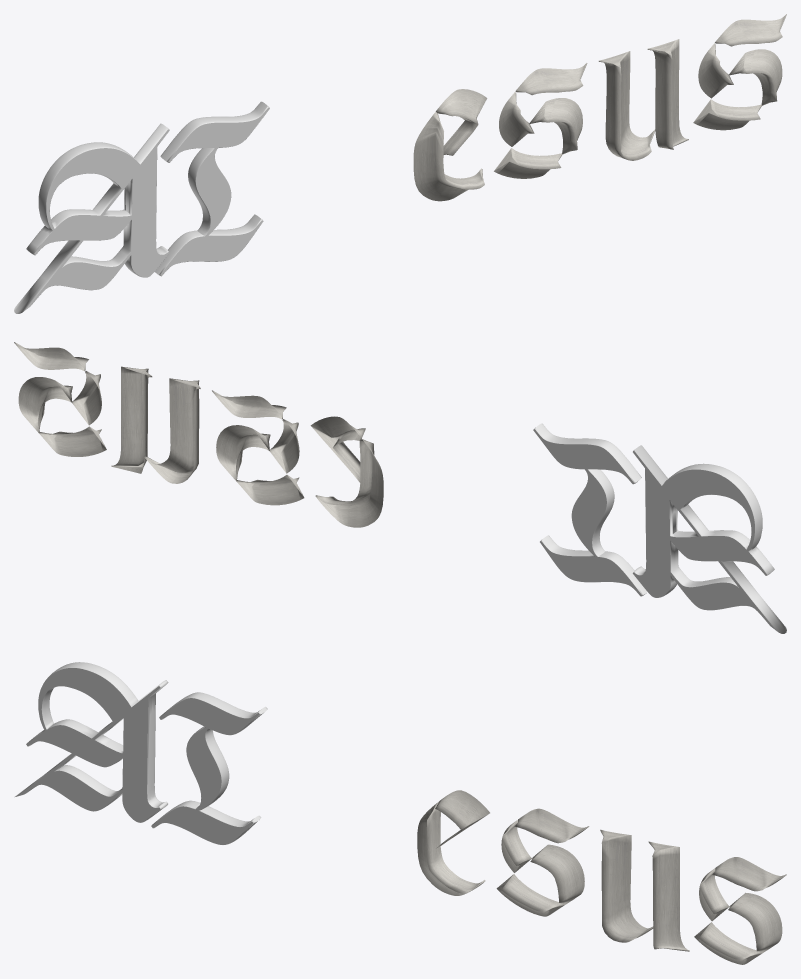
File: titles31.glb
The picture shows the model from 3 angles, top to bottom: view 1: azimuth 30°, elevation 25°; view 2: azimuth 150°, elevation 25°; view 3: azimuth 330°, elevation 25°; orthographic projection.
Parts seen in each view (by area): view 1: A, I, U, S2, S, E; view 2: A, I, U, S, S2, E; view 3: A, I, U, S, S2, E.
Boxes of the visible parts, x1=… form: A: x1=14, y1=123, x2=169, y2=313; I: x1=154, y1=101, x2=269, y2=276; U: x1=598, y1=39, x2=688, y2=160; S2: x1=693, y1=14, x2=786, y2=130; S: x1=494, y1=63, x2=587, y2=178; E: x1=413, y1=89, x2=487, y2=201; A: x1=632, y1=445, x2=786, y2=633; I: x1=533, y1=423, x2=647, y2=596; U: x1=111, y1=366, x2=200, y2=483; S: x1=212, y1=390, x2=304, y2=505; S2: x1=14, y1=342, x2=106, y2=456; E: x1=310, y1=416, x2=383, y2=527; A: x1=14, y1=662, x2=168, y2=822; I: x1=151, y1=692, x2=267, y2=844; U: x1=600, y1=829, x2=689, y2=951; S: x1=496, y1=808, x2=589, y2=916; S2: x1=694, y1=857, x2=786, y2=964; E: x1=417, y1=790, x2=489, y2=895.
Size of the model in its own units: 0.4323 by 0.0809 by 0.0104.
2 materials, 1 textured.
